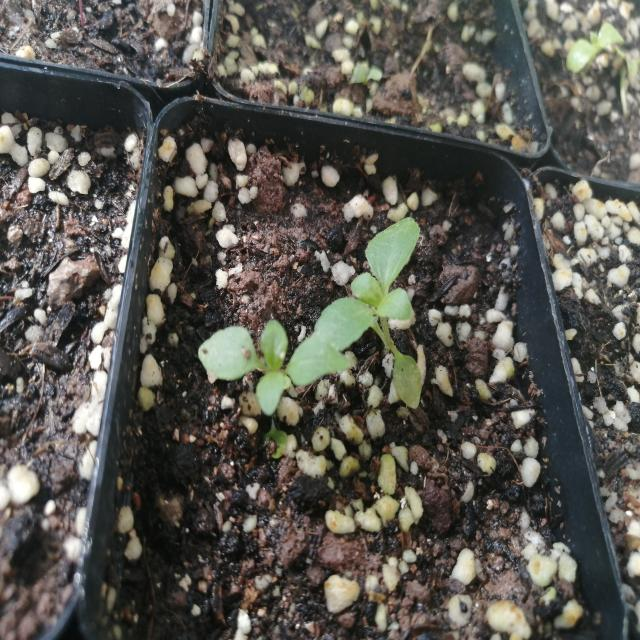billygoat_weed: (318, 203, 448, 426), (202, 297, 345, 415)
